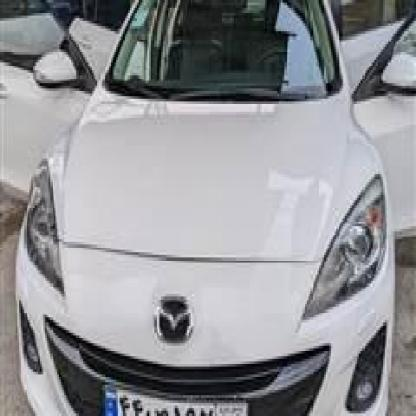Car: (0, 0, 414, 416)
